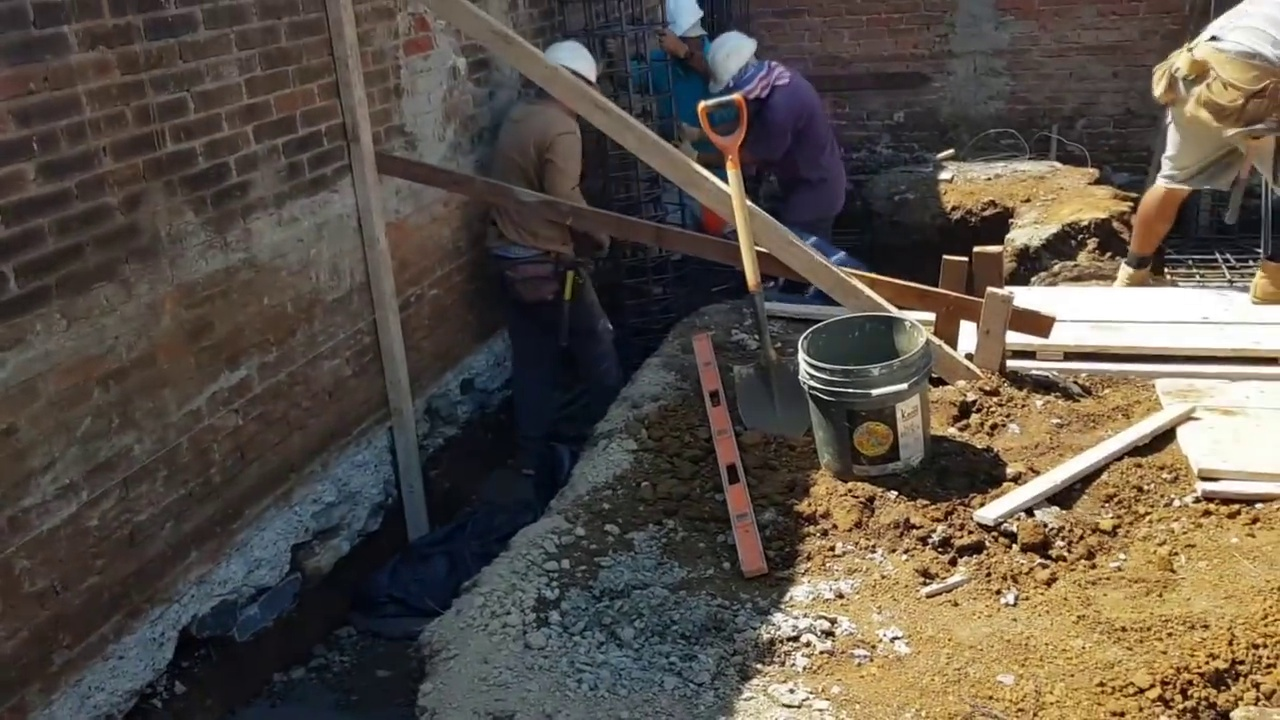helmet: (707, 31, 757, 94), (545, 39, 596, 87), (665, 0, 704, 35)
helmet-on: (533, 38, 596, 113), (707, 30, 765, 93), (664, 0, 705, 45)
person: (483, 28, 616, 474), (1112, 3, 1280, 314), (707, 23, 843, 252), (604, 0, 746, 133)
